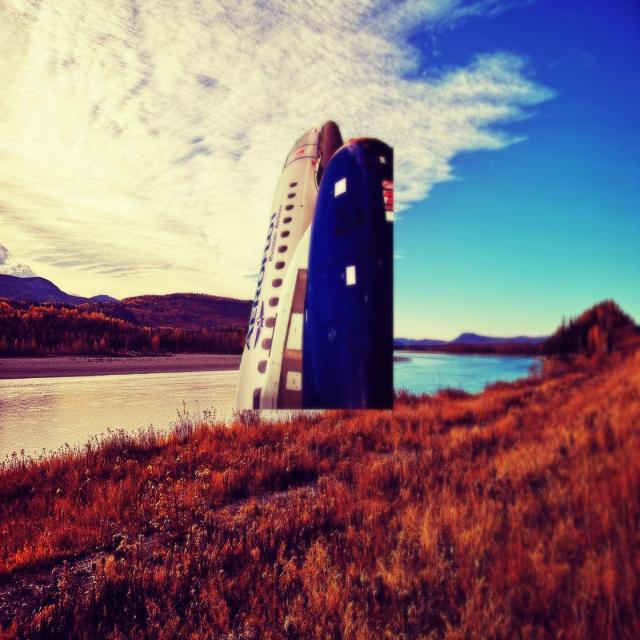airplane: (233, 119, 394, 414)
